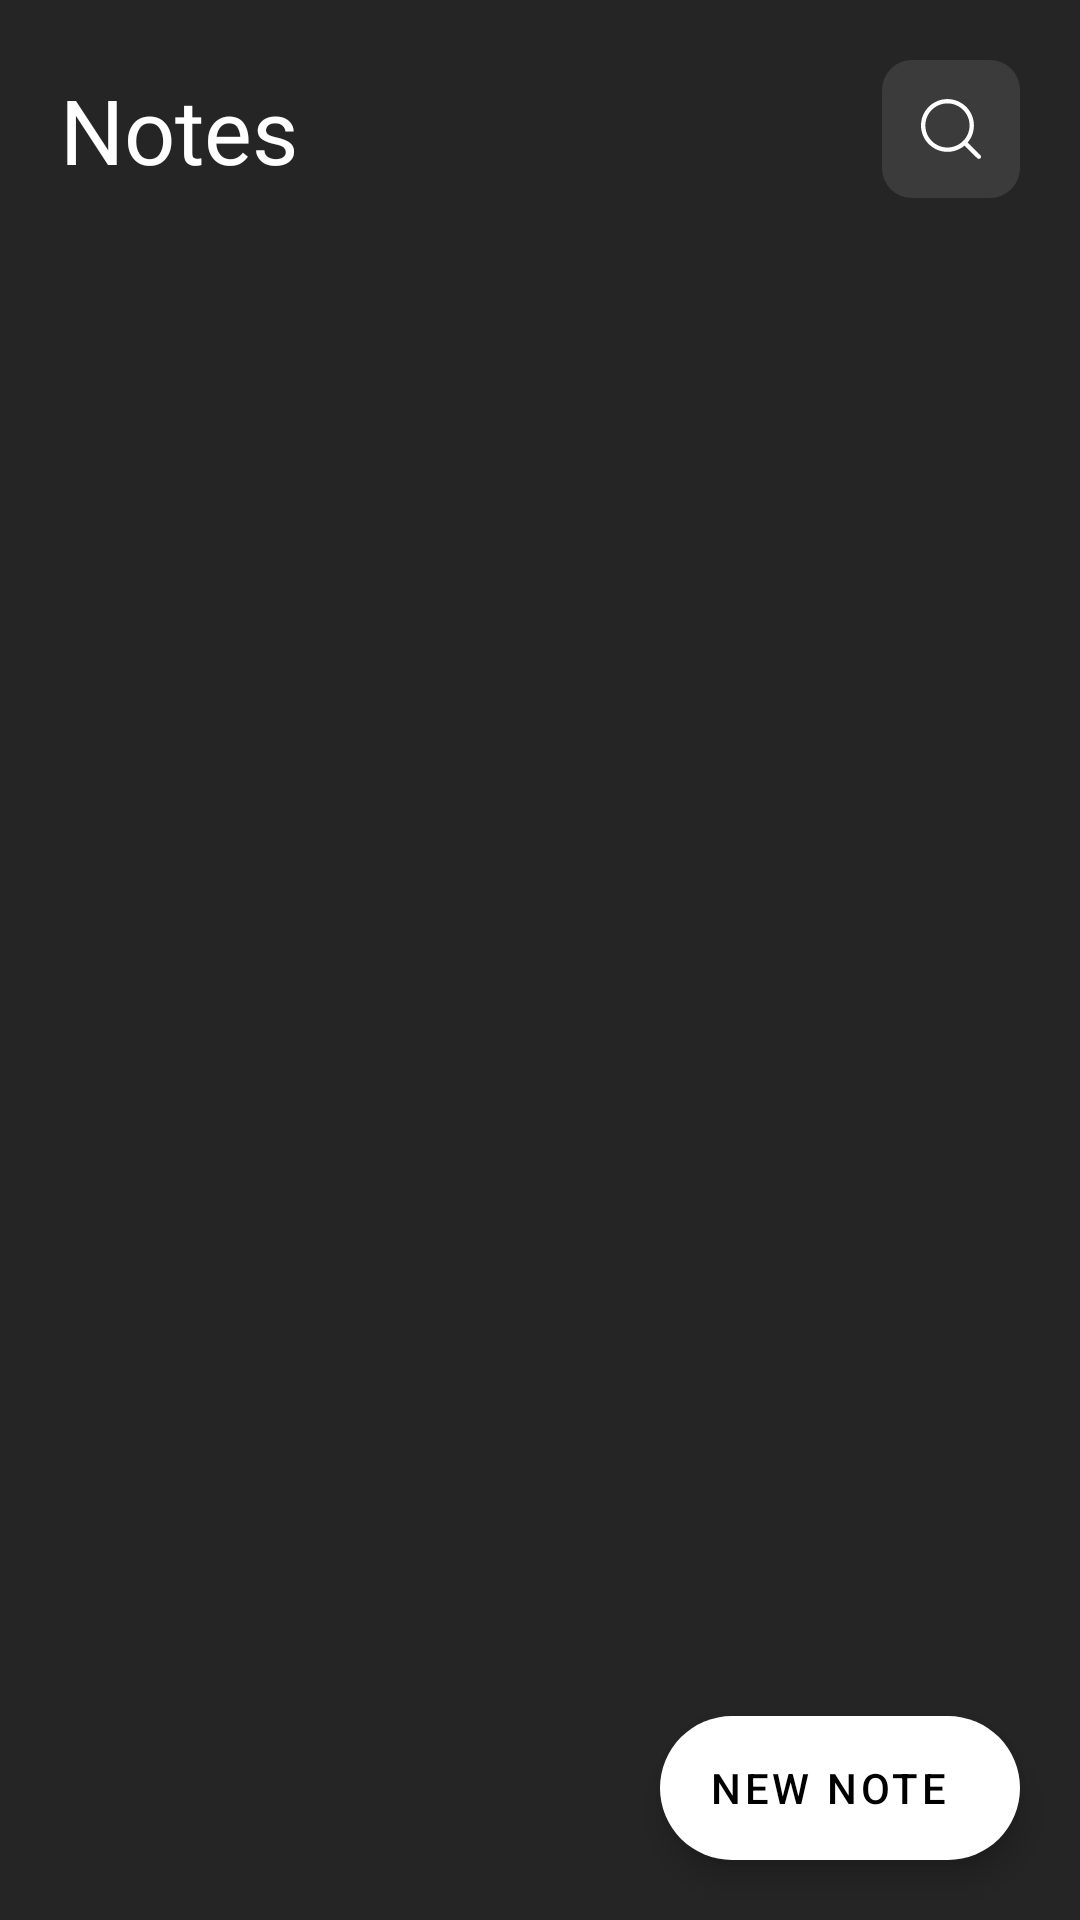

Where to tap for icons on this 1080 × 1920 app screen, as point (x, y):
search: point (951, 129)
